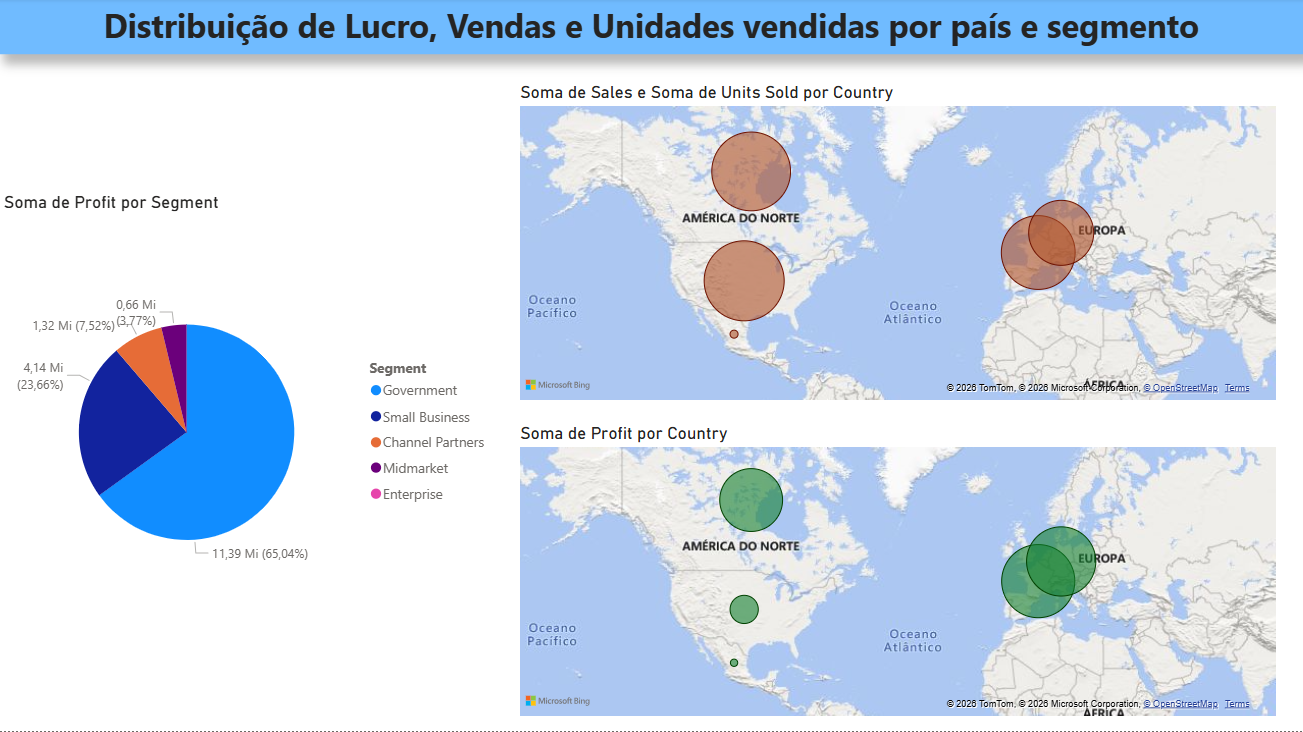

The page's visual inventory and layout, read from the dashboard file:
{"tool":"powerbi","page":{"name":"Página 3","canvas":[1280,720],"ordinal":2},"visuals":[{"type":"textbox","box":[0,0,1280.3,55.2],"z":0},{"type":"pieChart","fields":{"Y":["Sum(financials.Profit)"],"Category":["financials.Segment"]},"box":[0,190.2,490.6,453.4],"z":1000},{"type":"map","fields":{"Category":["financials.Country"],"Size":["Sum(financials.Sales)"]},"box":[507.2,82.7,751.1,317],"z":1001},{"type":"map","fields":{"Category":["financials.Country"],"Size":["Sum(financials.Profit)"]},"box":[507.2,417.6,751.1,292.2],"z":1002}]}

Visuals, with their boxes in screenshot pixels (x1, y1, x2, y2), scaled from the page's 1280x720 canvas onto the 1303x732 screenshot:
textbox: BBox(0, 0, 1302, 56)
pieChart - Sum(financials.Profit) x financials.Segment: BBox(0, 193, 499, 654)
map - financials.Country x Sum(financials.Sales): BBox(516, 84, 1281, 406)
map - financials.Country x Sum(financials.Profit): BBox(516, 425, 1281, 722)
